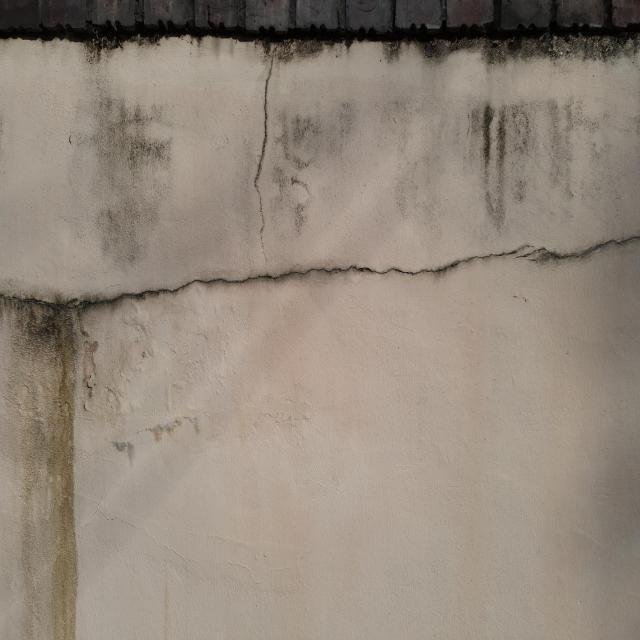SurfaceCrack: (6, 200, 639, 378)
